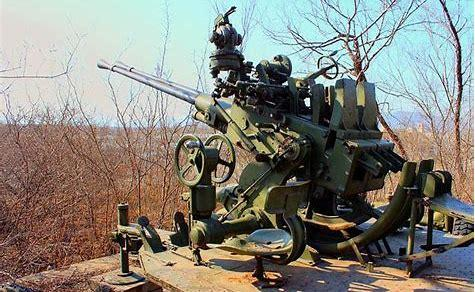MIL_SPG: (97, 7, 449, 264)
